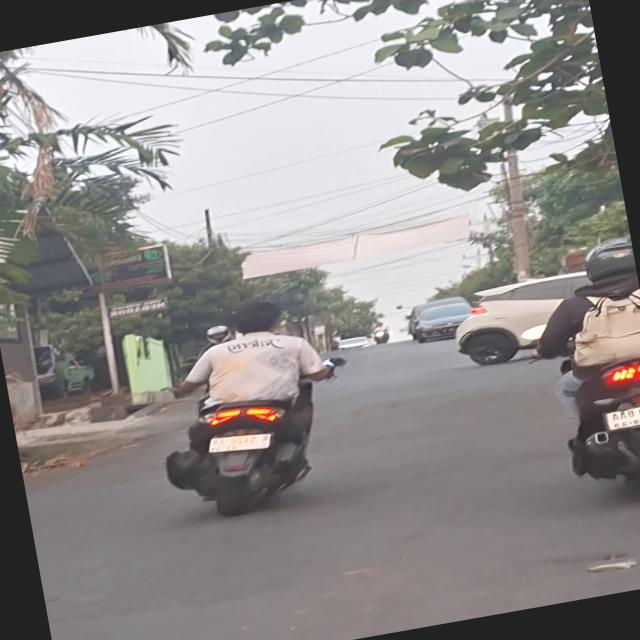WithHelmet: (513, 234, 640, 448), (189, 323, 239, 359)
WithoutHelmet: (137, 289, 366, 530)
